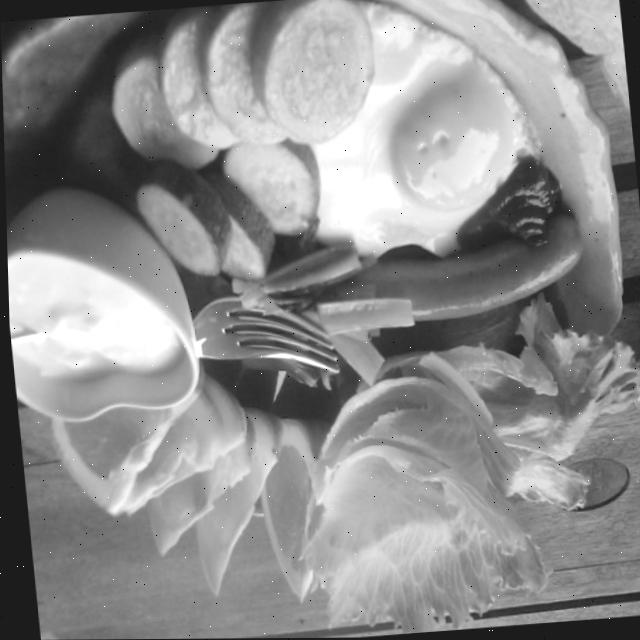鸡蛋料理: (279, 9, 565, 305)
